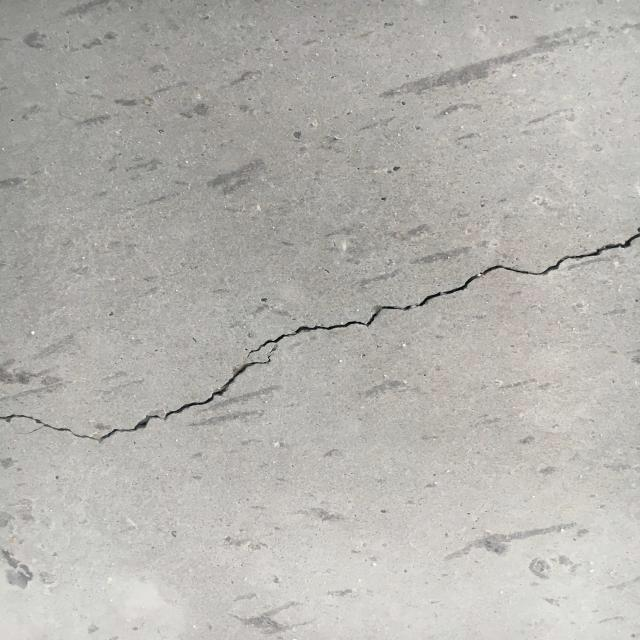SurfaceCrack: (0, 210, 639, 471)
